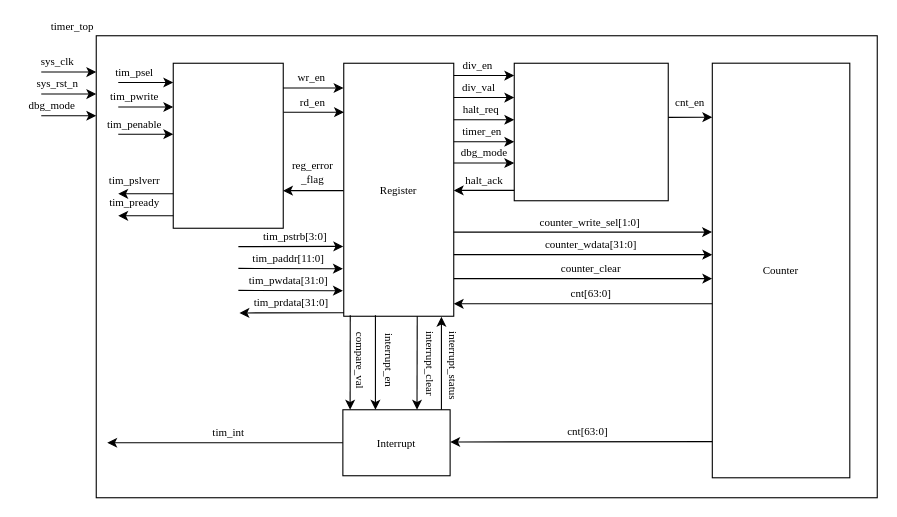
Some shapes in this 897 by 517 pixel diagram are drawn without their labels. The shapes that lost their labels are listed below. From the top down, each one's centre as x and y in pixels, then its label:
(227,145): APB Slave (FSM)
(590,131): Counter Control
